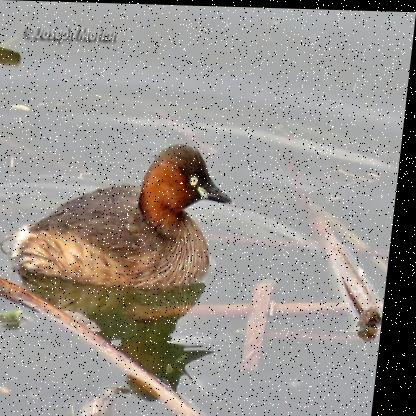Burung: (15, 140, 243, 286)
